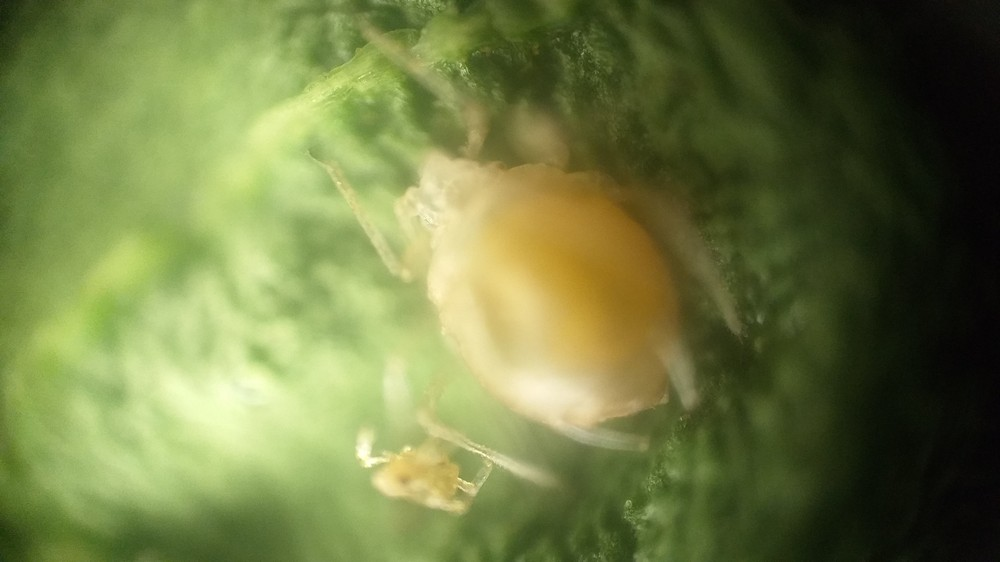Pulgon: (313, 48, 774, 474)
